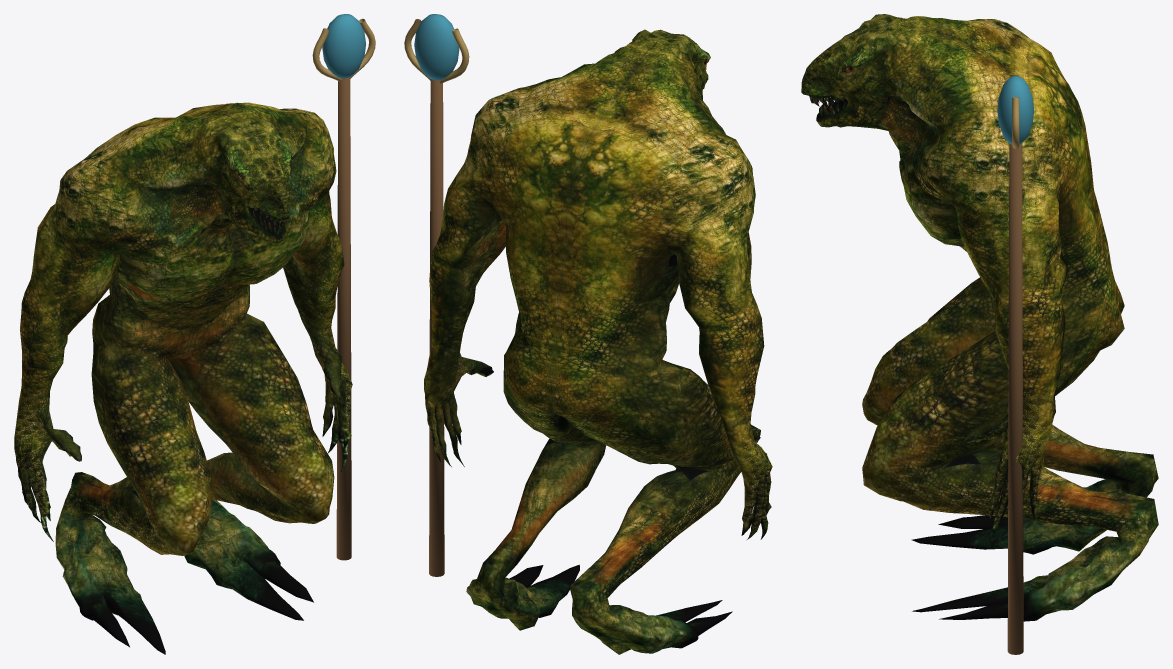
File: actor-dragon-summoner.glb
3 views of the same model, side by side, from view 1: azimuth 30°, elevation 25°; view 2: azimuth 150°, elevation 25°; view 3: azimuth 270°, elevation 25° (orthographic). The views are drawn at different scales.
Visible parts, largest first — view 1: lizardman · posed; view 2: lizardman · posed; view 3: lizardman · posed.
Part boxes in pixels (x1=…): lizardman · posed: x1=14, y1=14, x2=375, y2=654; lizardman · posed: x1=404, y1=14, x2=772, y2=654; lizardman · posed: x1=801, y1=14, x2=1158, y2=654.
Bounding box in the file's own units: 1.41 × 2.1 × 1.16.
4 materials, 1 textured.
